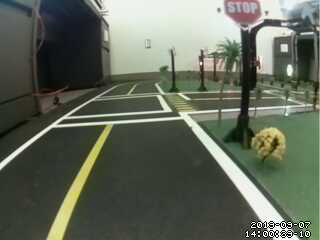Stop_Sign: (225, 2, 269, 30)
